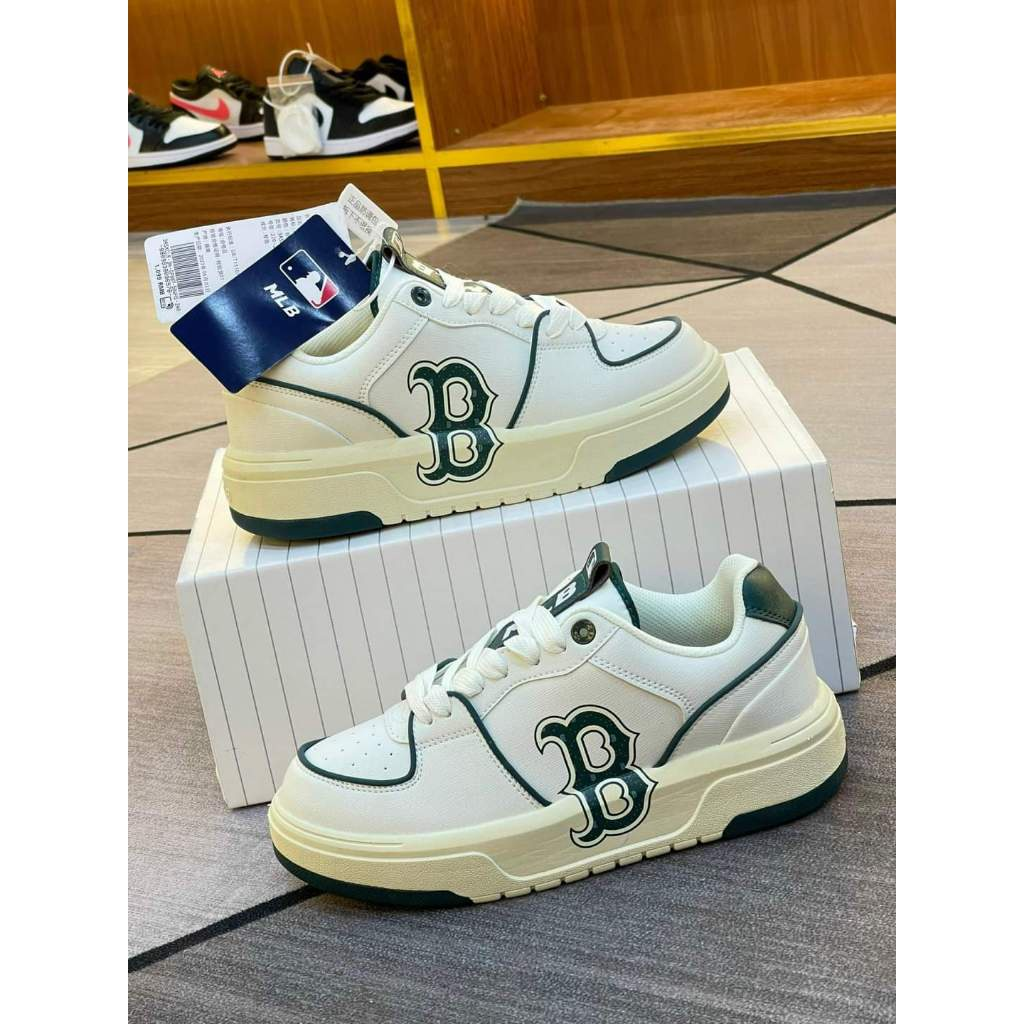sneakers: (266, 544, 849, 908), (221, 249, 732, 541)
